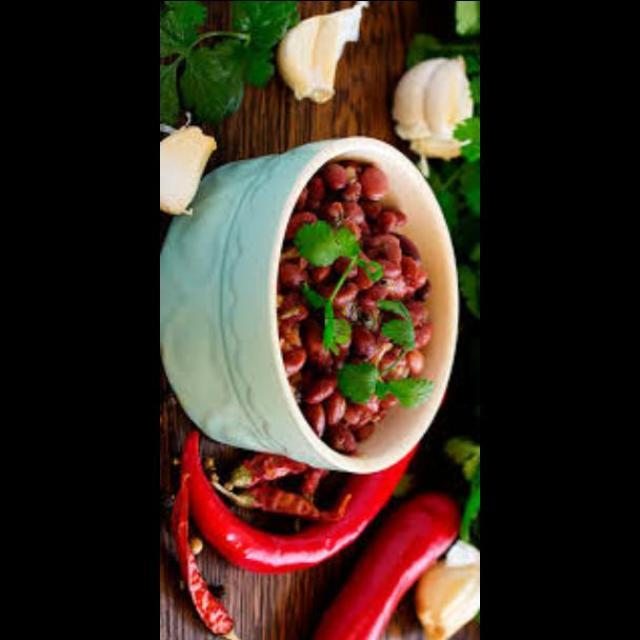fasol: (272, 154, 446, 448)
garlic: (272, 0, 374, 103), (388, 46, 476, 156), (160, 118, 222, 224), (420, 531, 480, 640)
hot pepper: (166, 443, 409, 580), (309, 486, 462, 640), (170, 466, 244, 639), (222, 481, 354, 525), (228, 451, 310, 482)
